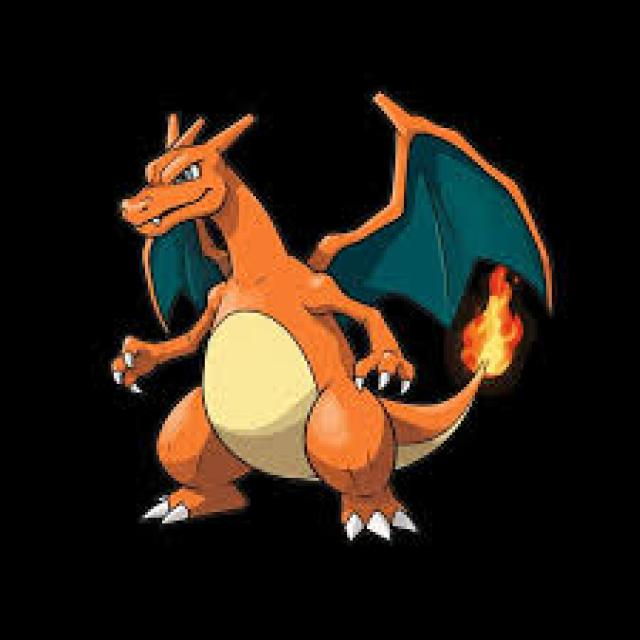charizard: (112, 89, 556, 552)
